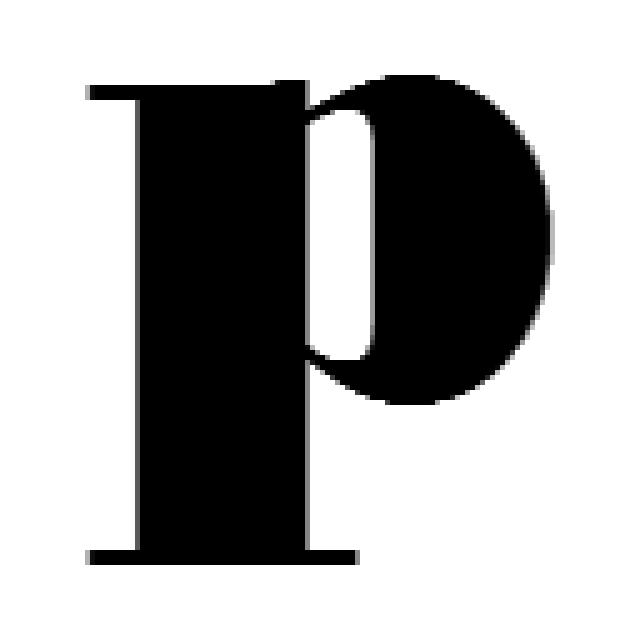P: (85, 75, 555, 565)
